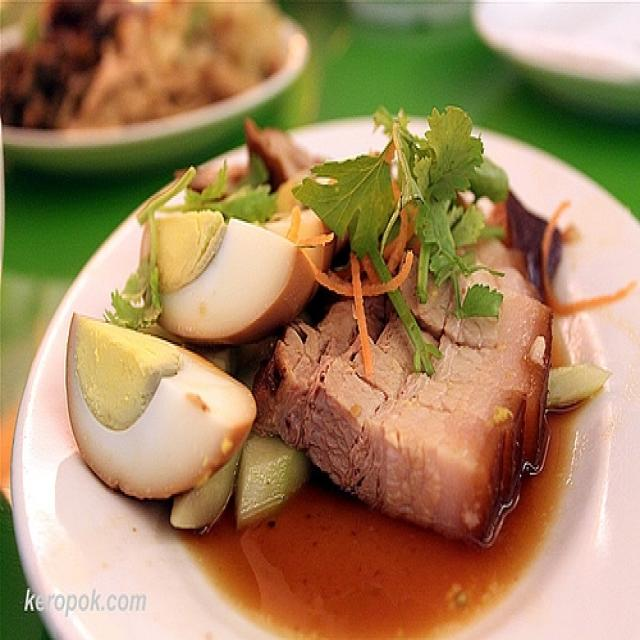汤锅炖物: (48, 98, 602, 602)
